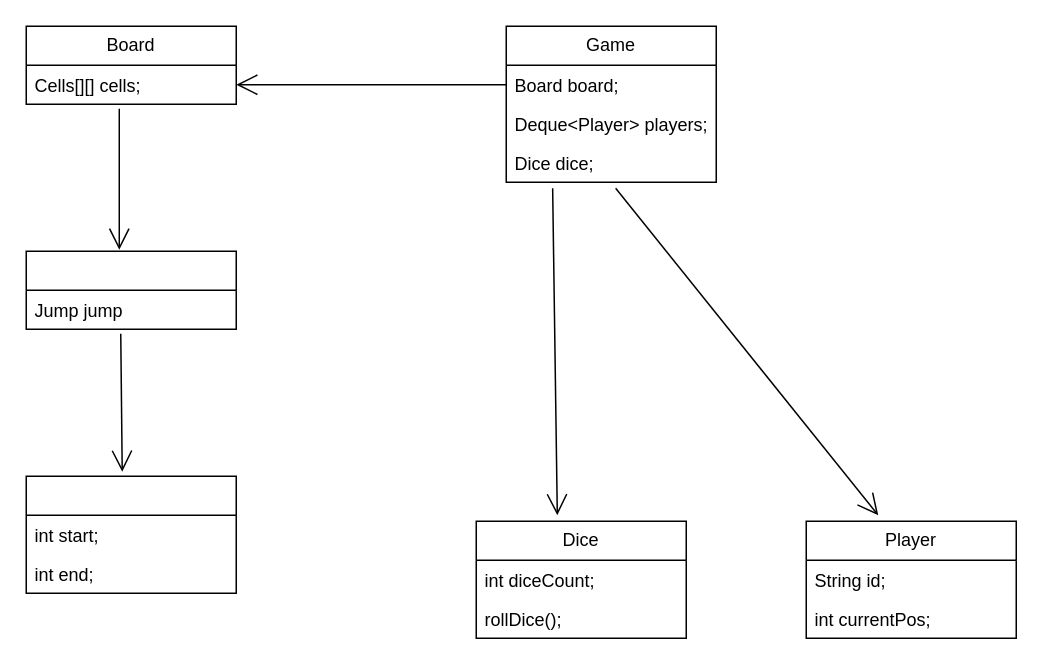
Some shapes in this 1043 by 669 pixel diagram are drawn without their labels. The box of each missing label's shape, as (x1, y1, x2, y2) in pixels:
Cells: (25, 250, 236, 329)
Jump: (25, 475, 236, 593)
